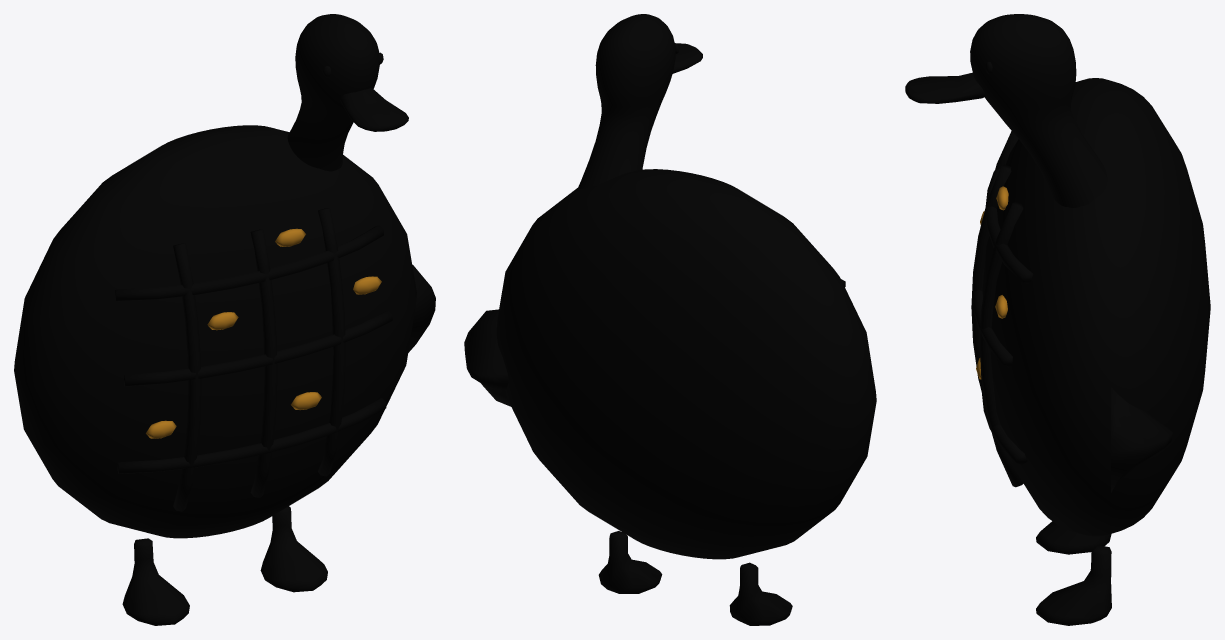
File: duck-milletcake.fbx
3 renders of one model, left to right at view 1: azimuth 30°, elevation 25°; view 2: azimuth 150°, elevation 25°; view 3: azimuth 270°, elevation 25°, orthographic. The views are drawn at different scales.
Visible parts, largest first — view 1: duck-milletcake; view 2: duck-milletcake; view 3: duck-milletcake.
Part boxes in pixels (<box>): duck-milletcake: <box>14,14,435,625</box>; duck-milletcake: <box>464,14,876,625</box>; duck-milletcake: <box>905,14,1210,625</box>.
Size of the model in its own units: 76.73 by 100 by 45.42.
